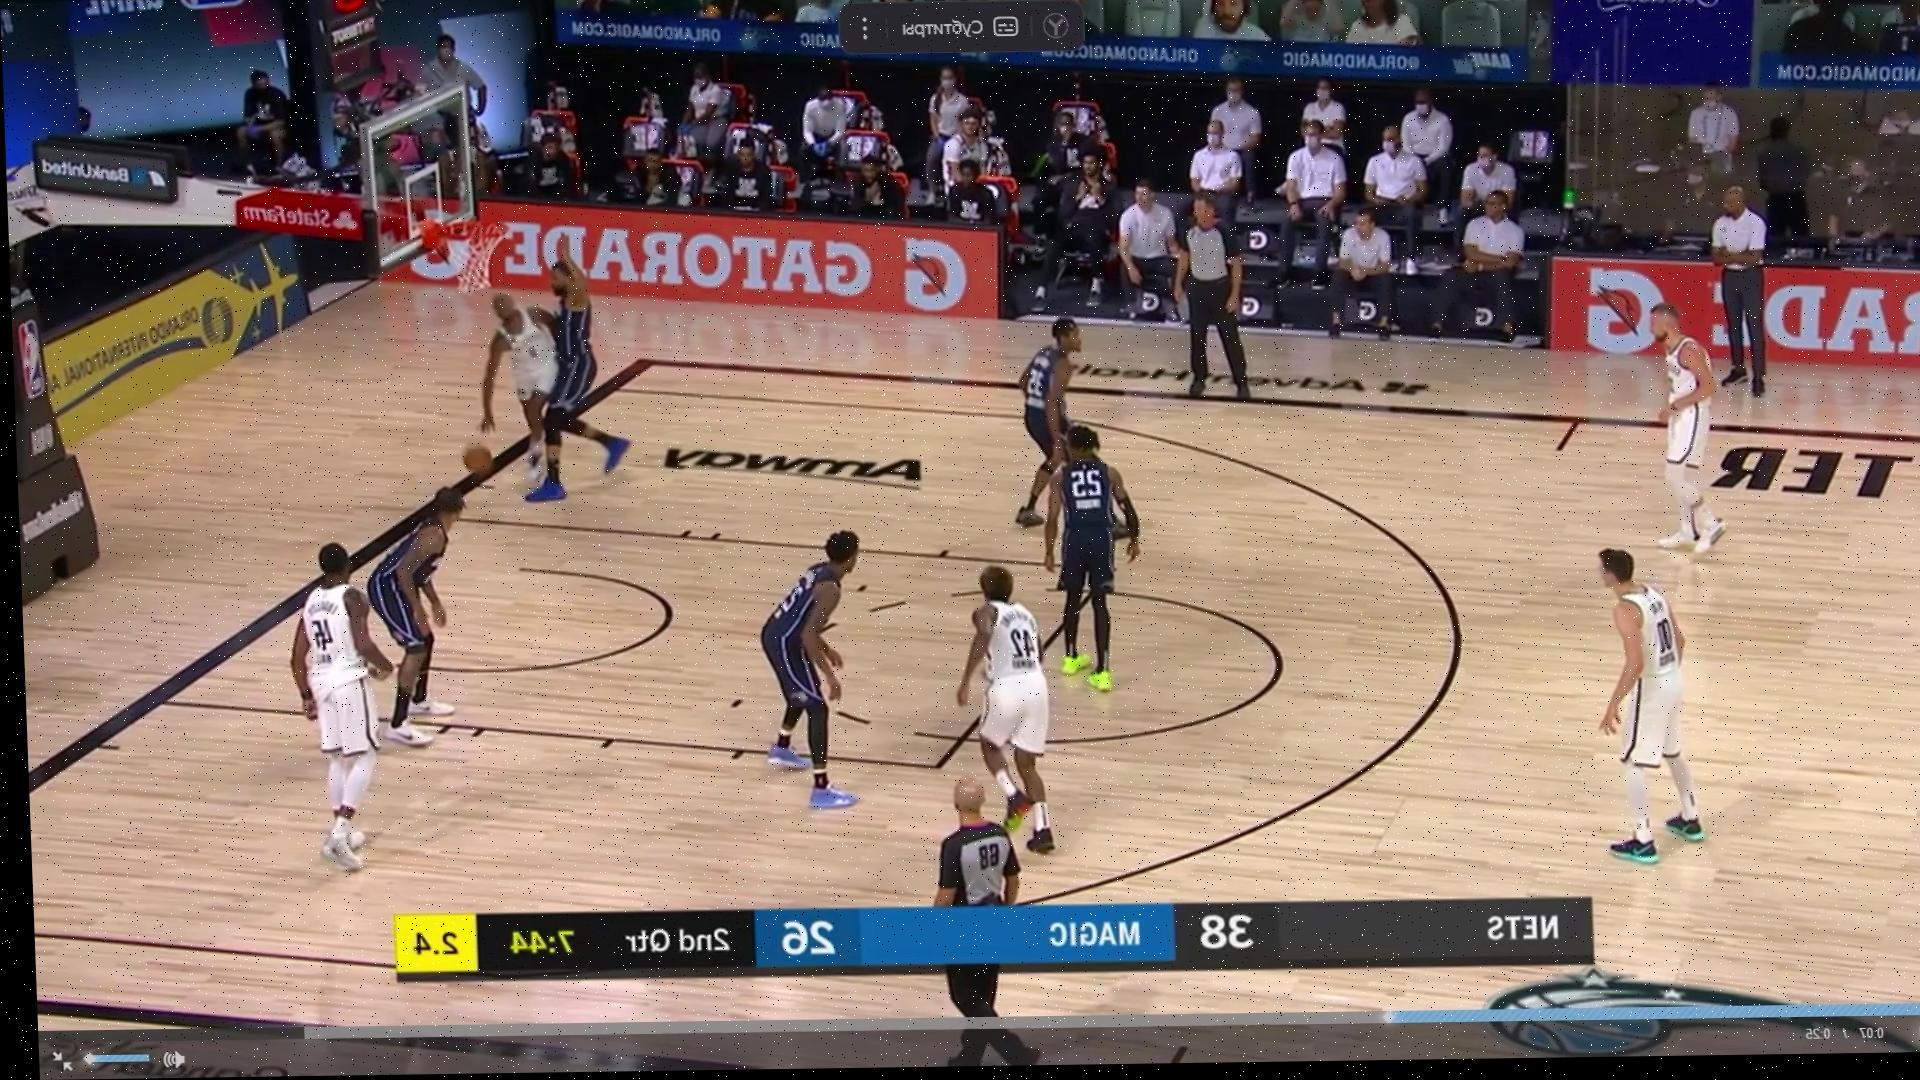foul: (450, 260, 652, 495)
